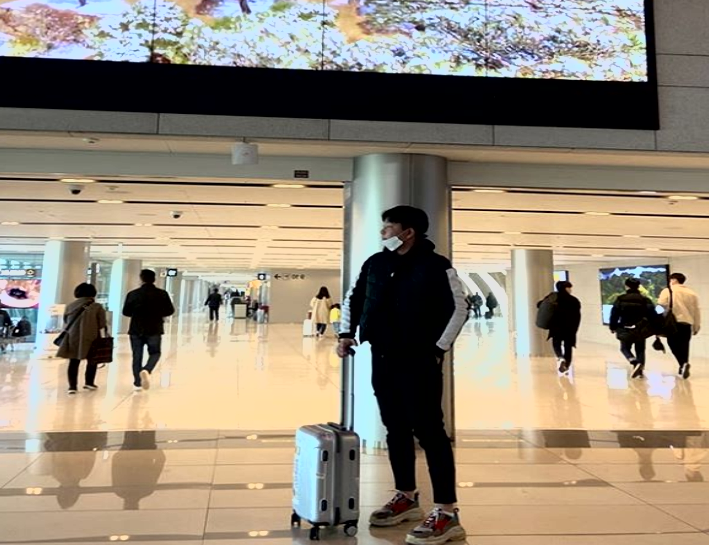mask_weared_incorrect: (375, 203, 426, 256)
